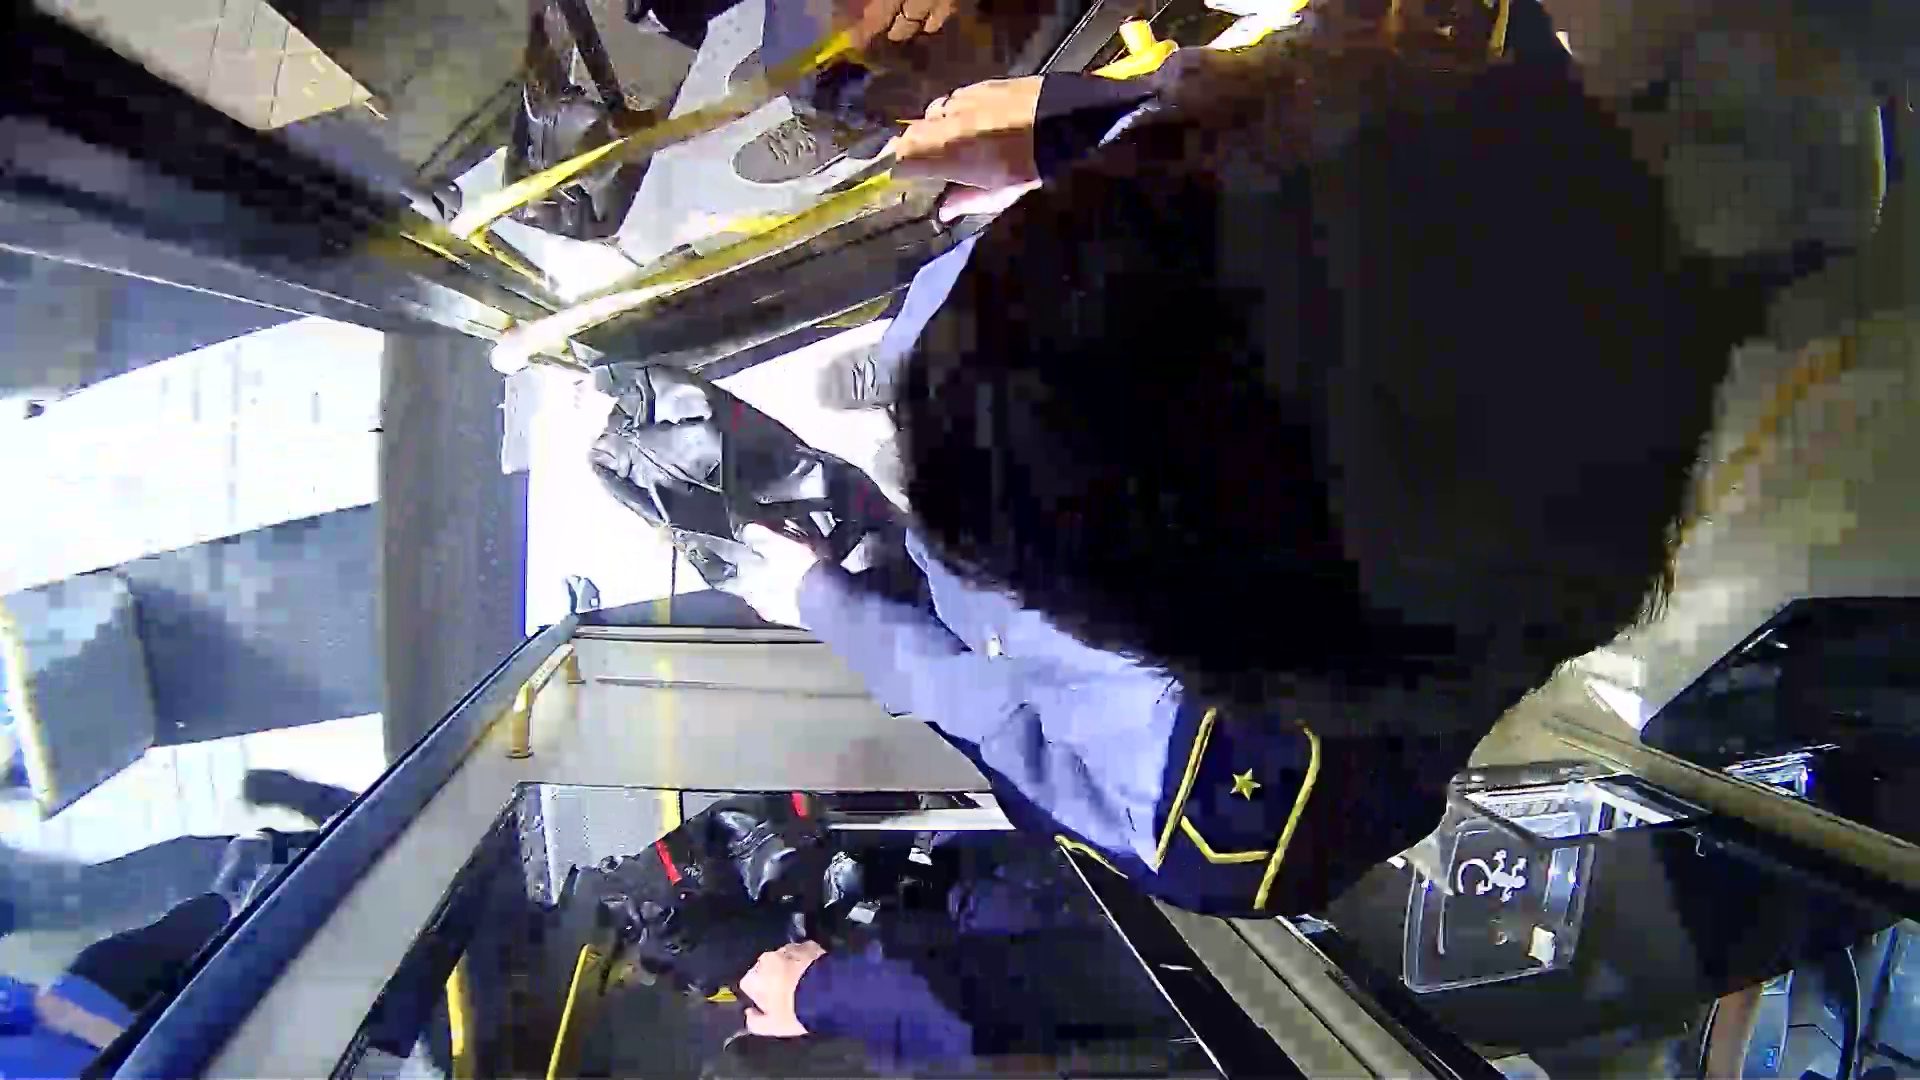person: (693, 24, 1773, 881)
